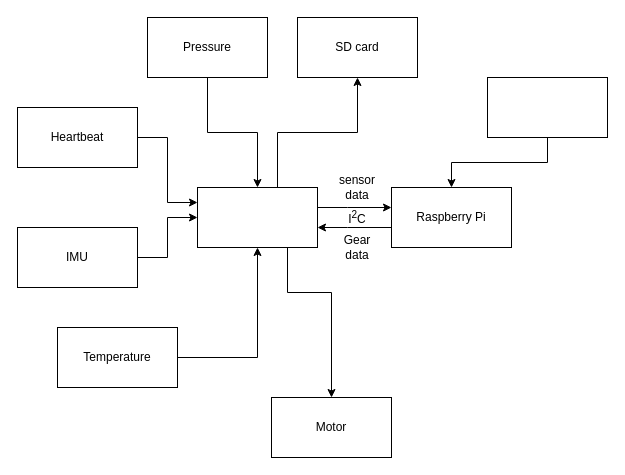
The diagram is 625 pixels wide and 475 high, and some of its shapes have lost their labels. Each missing label, with the centre of its shape:
"Arduino" goes at point (257, 217).
"GPS: position and speed" goes at point (547, 107).
